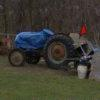Tractor: (10, 17, 100, 77)
